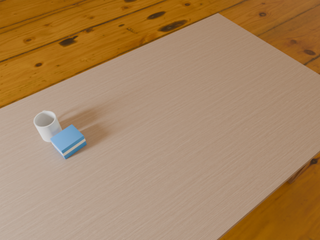box: (50, 125, 86, 159)
cup: (34, 110, 62, 142)
